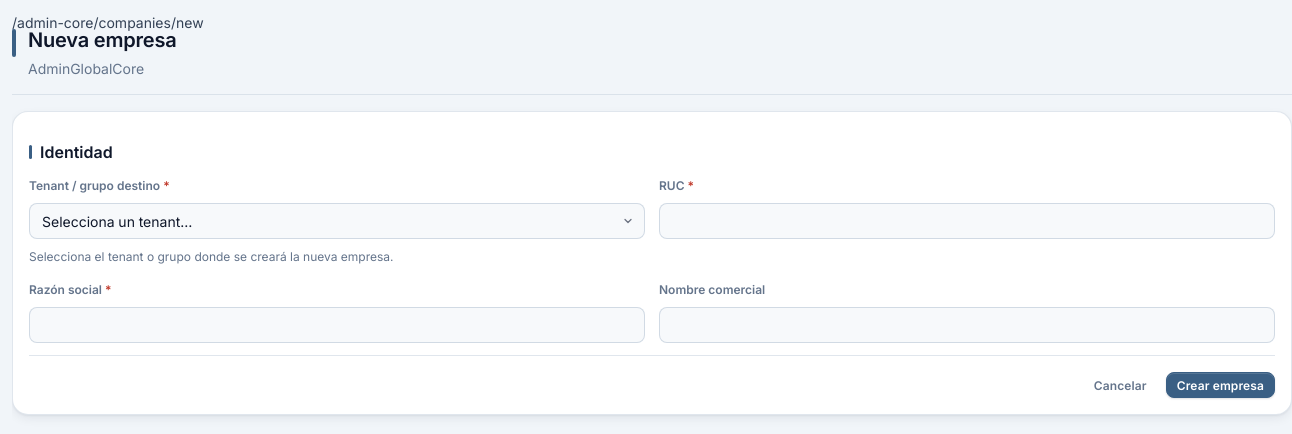
Test case: AdminCoreCompanyCreatePage — selector de tenant › al crear una empresa envía el tenantId seleccionado y muestra éxito
Select "Tenant B" in the dropdown labelled "Tenant / grupo destino". click: (337, 221)
box: [29,203,645,239]
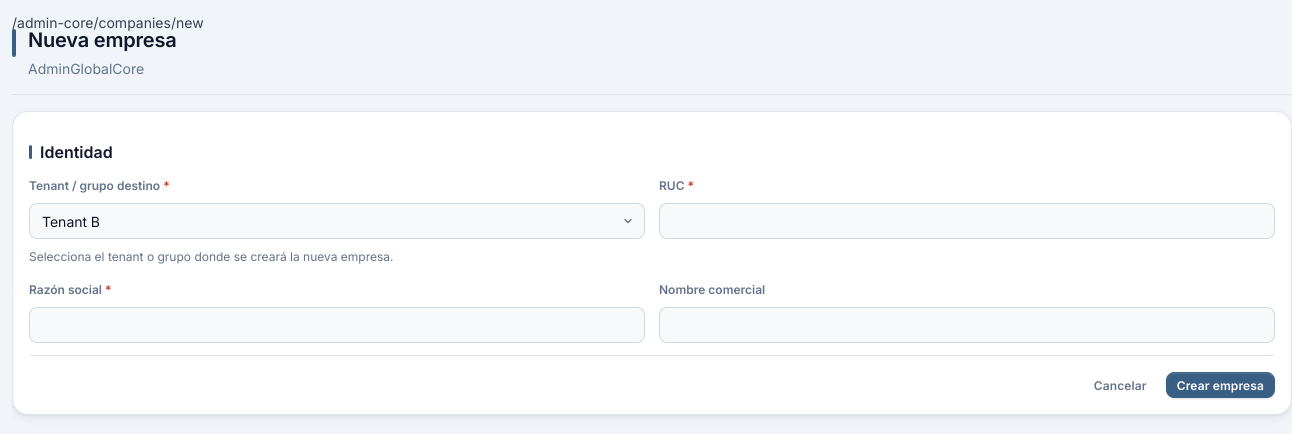
Type "1790012345001" into the field labelled "RUC". click: (967, 221)
box: [659,203,1275,239]
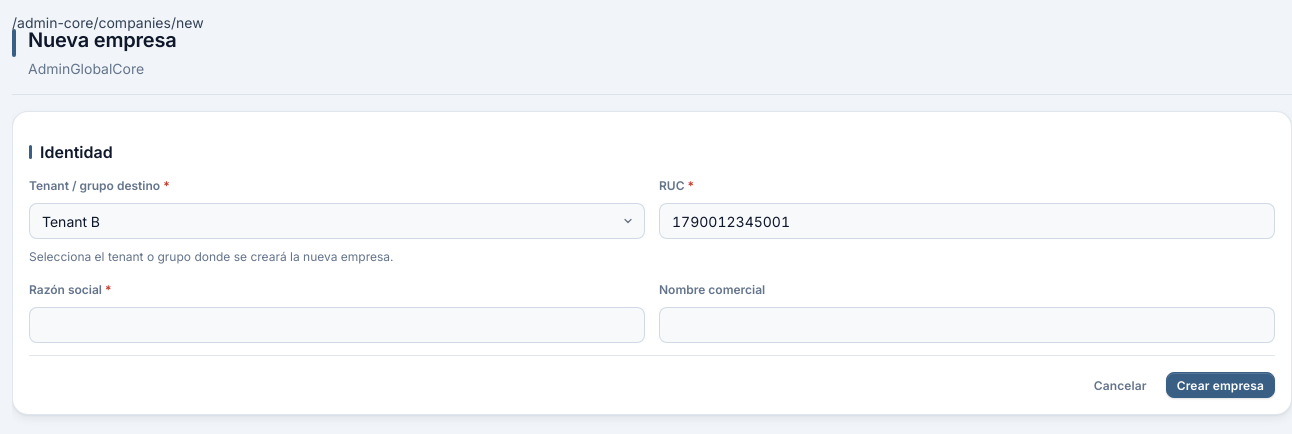
Type "Empresa Nueva" into the field labelled "Razón social". click: (337, 325)
box: [29,307,645,343]
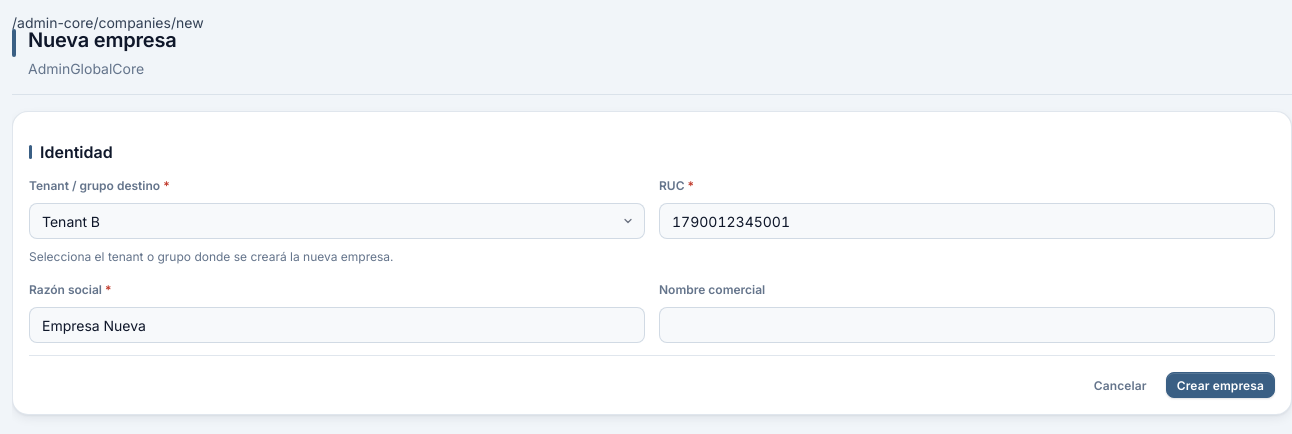
Click the button "Crear empresa". click: (1220, 385)
box: [1166,372,1275,398]
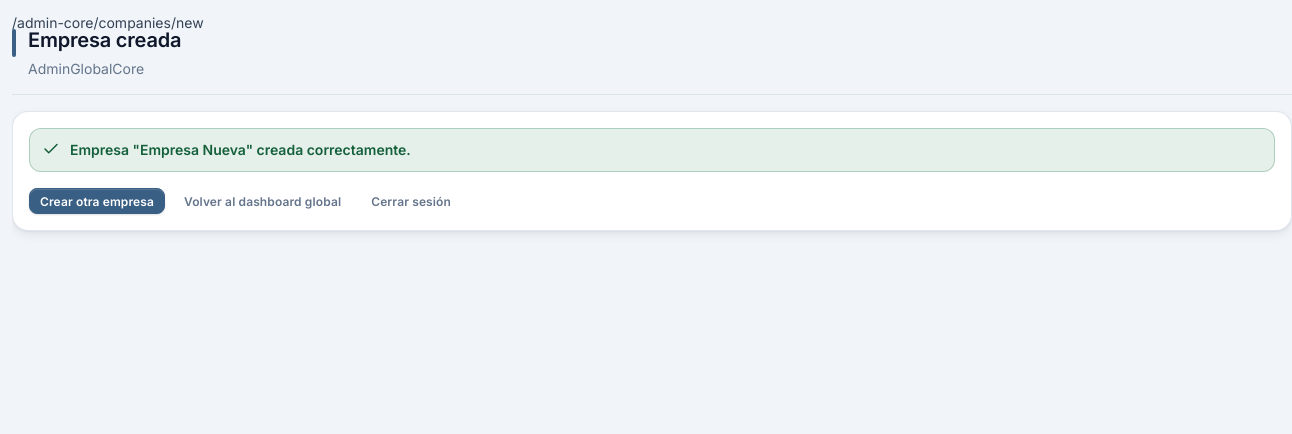
Now the text "Empresa \"Empresa Nueva\" creada correctamente." is shown, box [70,139,411,161]
Now the button "Crear otra empresa" is shown, box [29,188,165,214]
Now the button "Volver al dashboard global" is shown, box [173,188,352,214]
